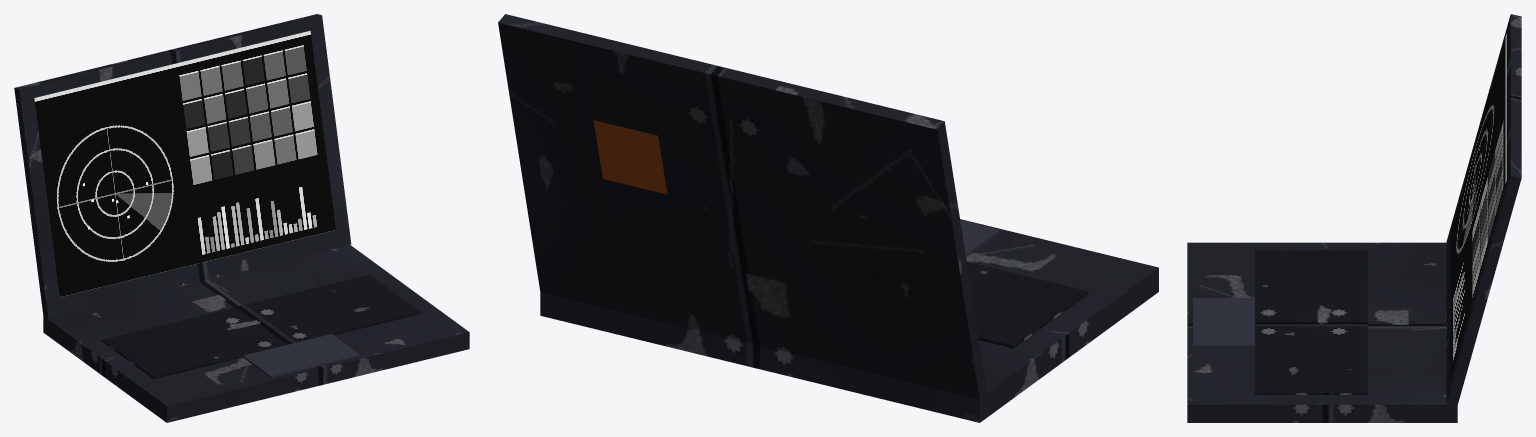
The model's file is Tech_Laptop.001.gltf.
The picture shows the model from 3 angles, left to right: view 1: azimuth 30°, elevation 25°; view 2: azimuth 150°, elevation 25°; view 3: azimuth 270°, elevation 25°; orthographic projection. The views are drawn at different scales.
Visible parts, largest first — view 1: Tech_Laptop.001; view 2: Tech_Laptop.001; view 3: Tech_Laptop.001.
Boxes of the visible parts, left/top/right/bottom form: Tech_Laptop.001: left=14, top=14, right=469, bottom=422; Tech_Laptop.001: left=498, top=14, right=1158, bottom=422; Tech_Laptop.001: left=1187, top=14, right=1521, bottom=422.
Size of the model in its own units: 0.34 by 0.2421 by 0.2967.
Materials: 5 (3 with a texture image).
